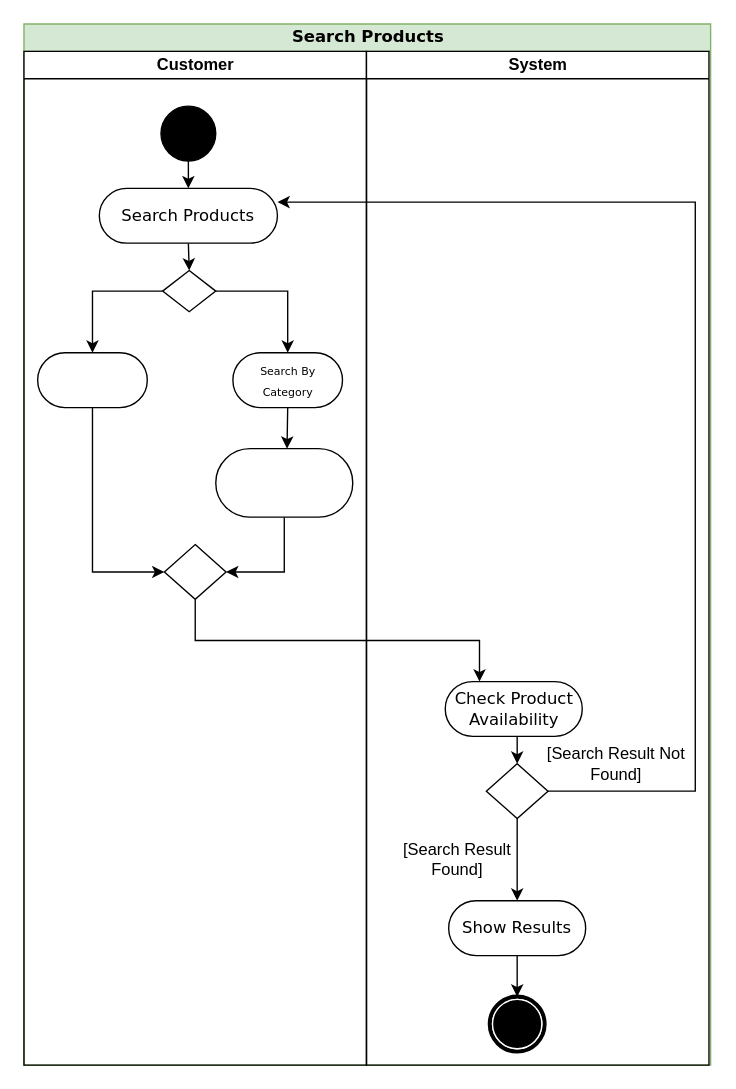
The diagram is 736 pixels wide and 1089 high, and some of its shapes have lost their labels. Here are the shapes that lost their labels. From the top down, the centre of each, then its label:
the point at 91,379: Search By Product Name
the point at 283,482: Select Main Category or sub-category
